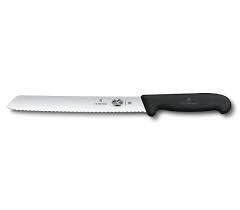knife: (6, 92, 233, 118)
